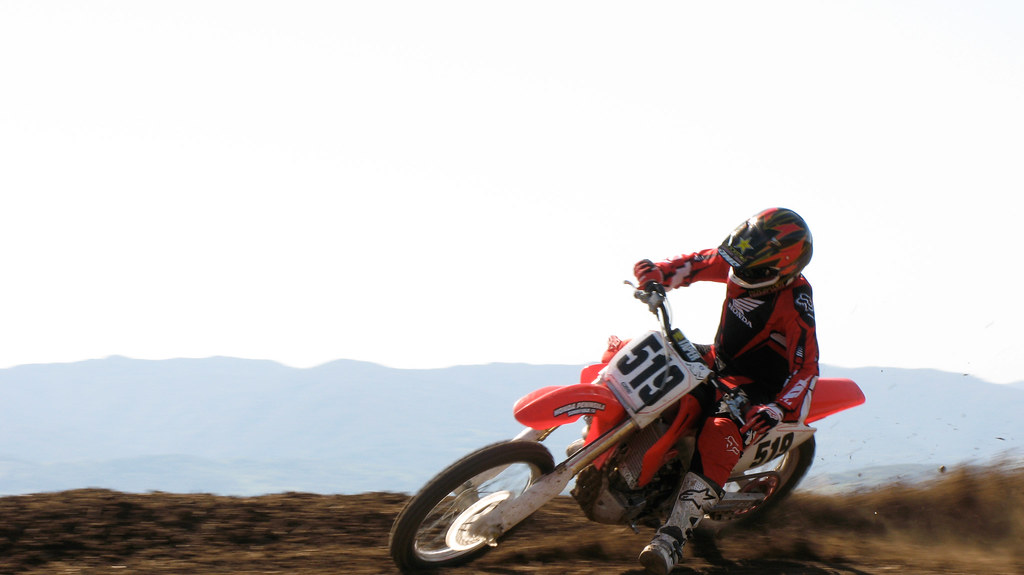helmet: (718, 201, 824, 294)
